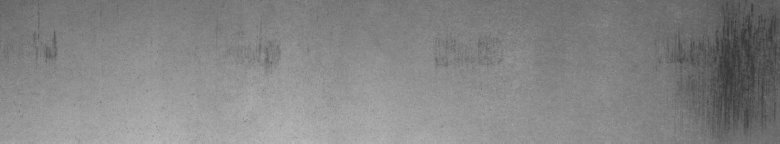ka: (667, 4, 776, 128)
